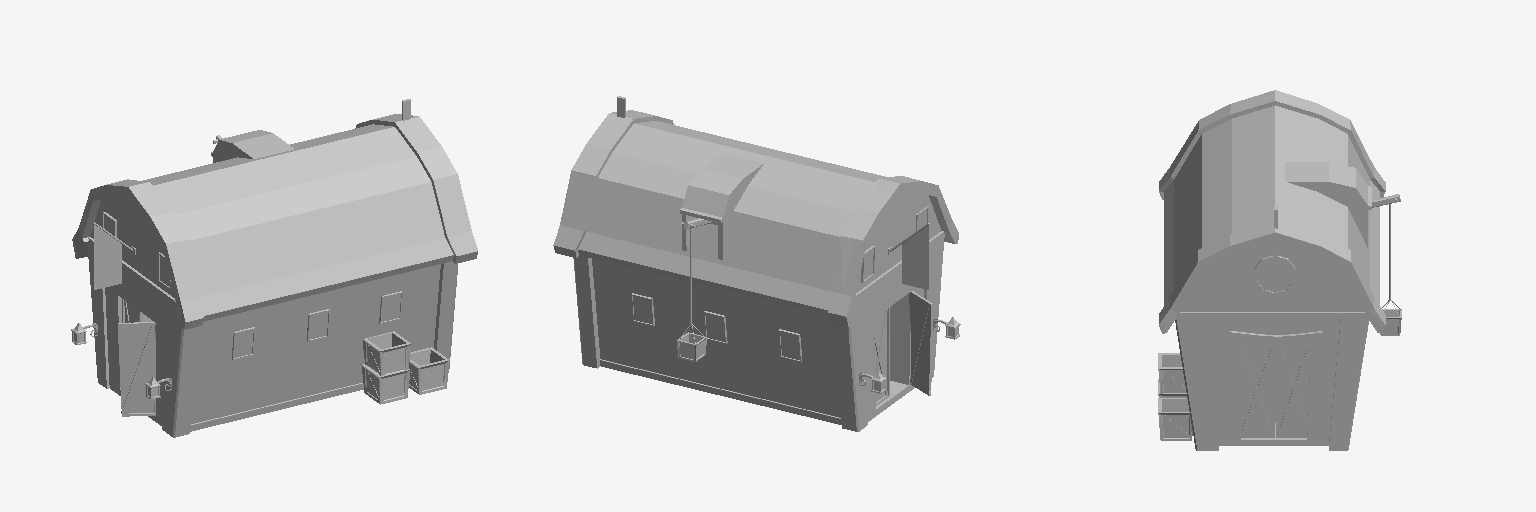
The model's file is Farm.obj.
The picture shows the model from 3 angles: view 1: azimuth 30°, elevation 25°; view 2: azimuth 150°, elevation 25°; view 3: azimuth 270°, elevation 25°; orthographic projection.
Visible parts, largest first — view 1: pCube584; view 2: pCube584; view 3: pCube584.
Part boxes in pixels (x1,y1,x2,y2): pCube584: (71, 99, 477, 437); pCube584: (553, 96, 960, 431); pCube584: (1158, 90, 1401, 450).
Size of the model in its own units: 11.87 by 8.47 by 7.72.